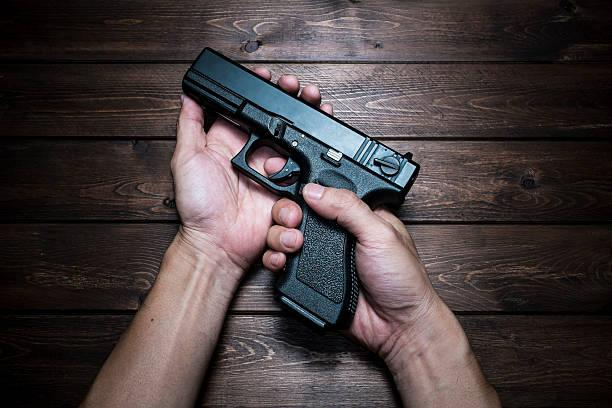weapon: (181, 44, 425, 335)
